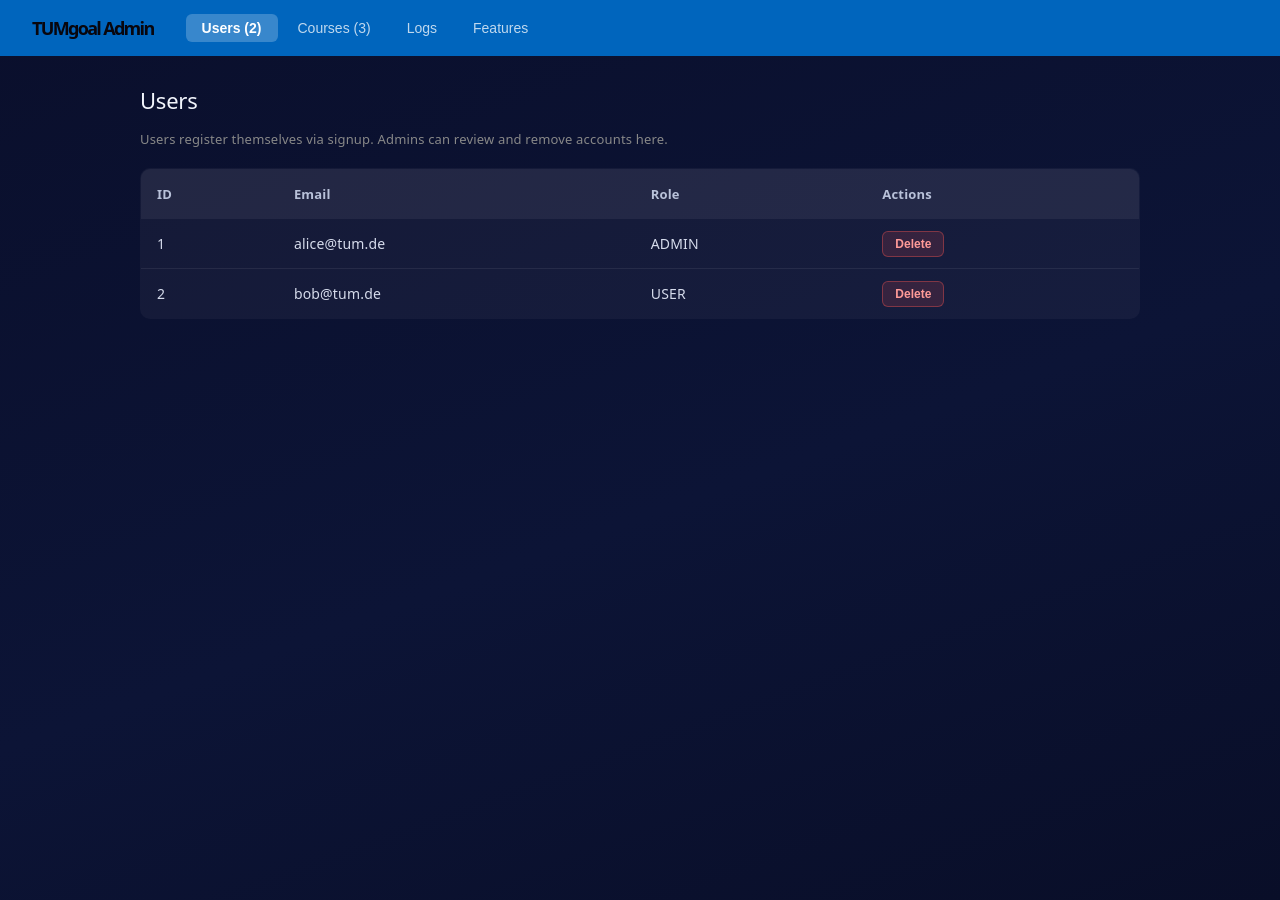
Logs tab › shows empty state rows when logs are empty
What coordinates should you click on to do the following:
click the button "Logs"
I would click on:
 (422, 28)
Its box is [391,14,453,42].
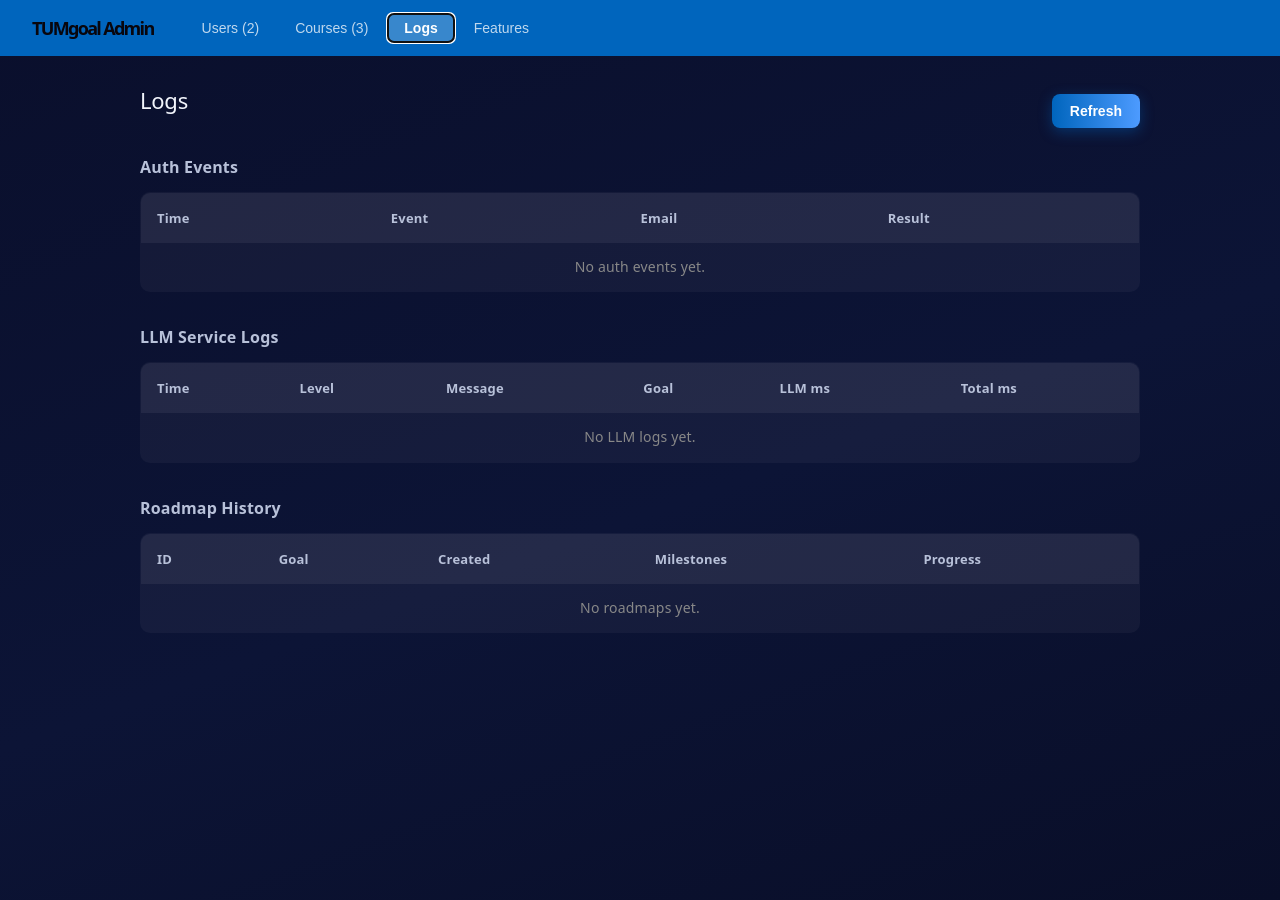
Now the text "No LLM logs yet." is shown, box [140,413,1140,462]
Now the text "No auth events yet." is shown, box [140,243,1140,292]
Now the text "No roadmaps yet." is shown, box [140,584,1140,632]
